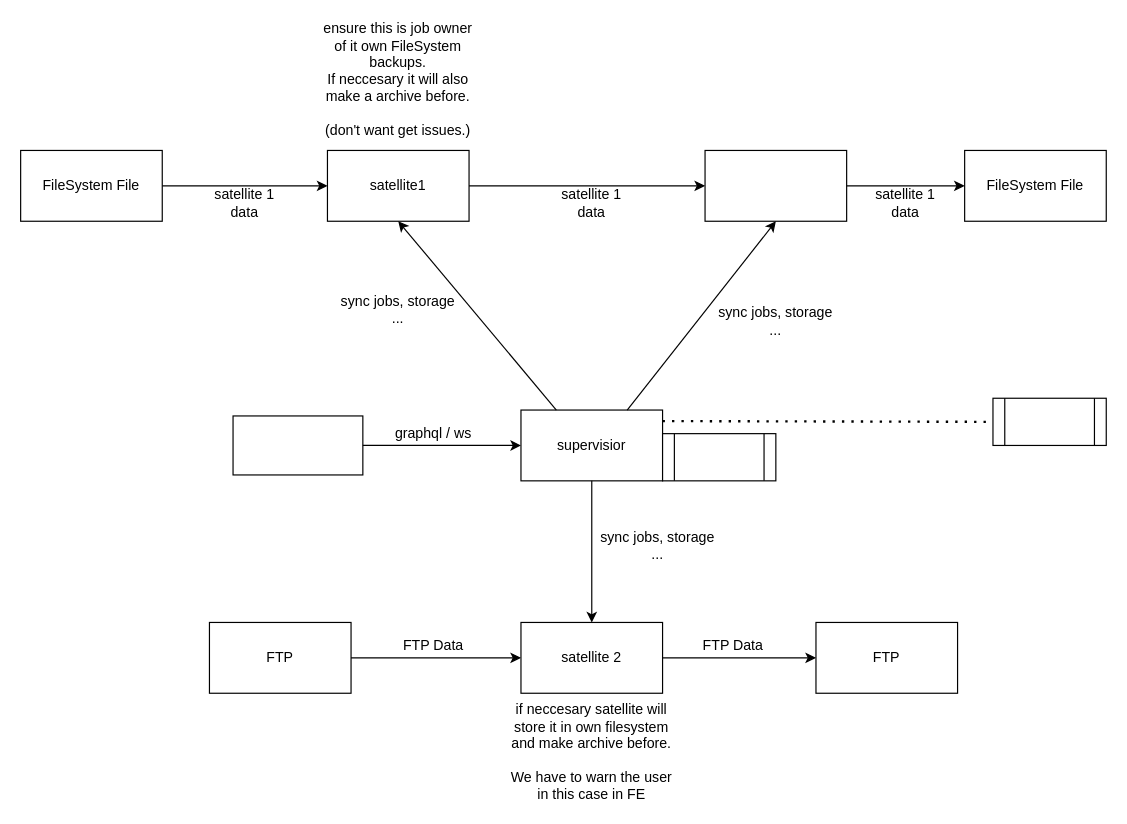
Some shapes in this 1127 by 824 pixel diagram are drawn without their labels. Each missing label, with the centre of its shape:
Database: point (718, 456)
Frontend: point (297, 445)
InfluxDB: point (1049, 421)
satelite 3: point (775, 185)
